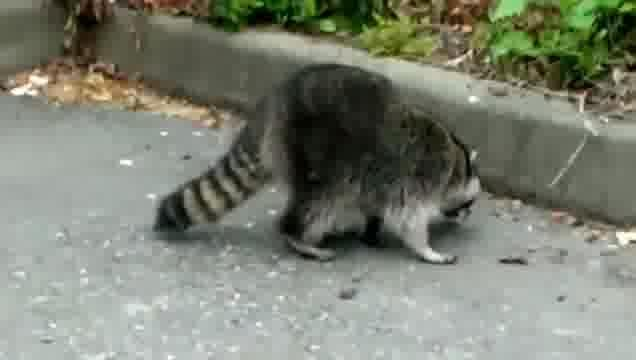raccoon: (155, 62, 485, 267)
